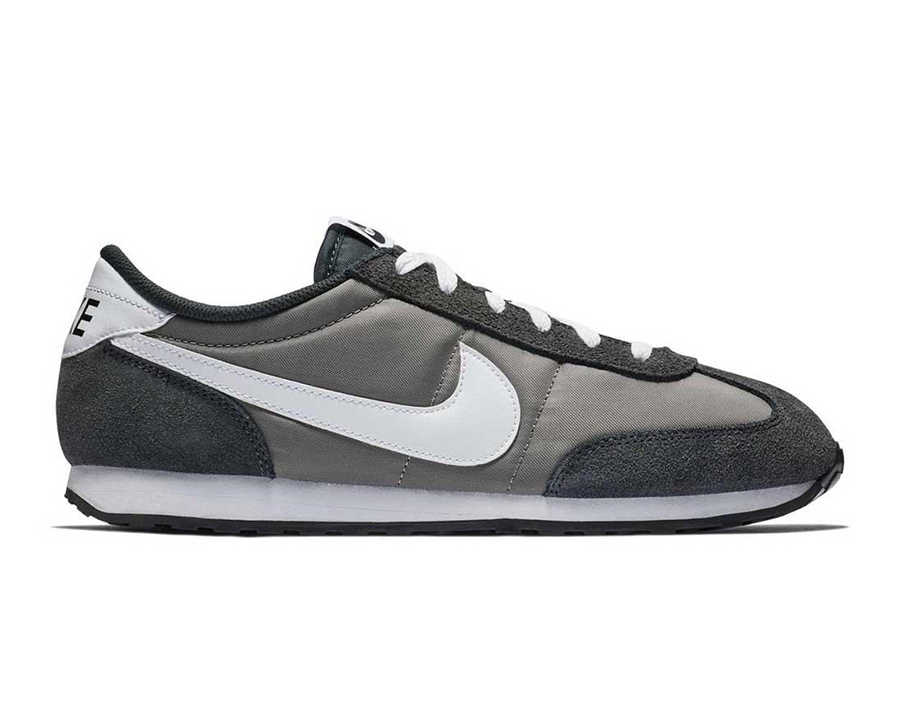nike: (164, 335, 528, 472)
